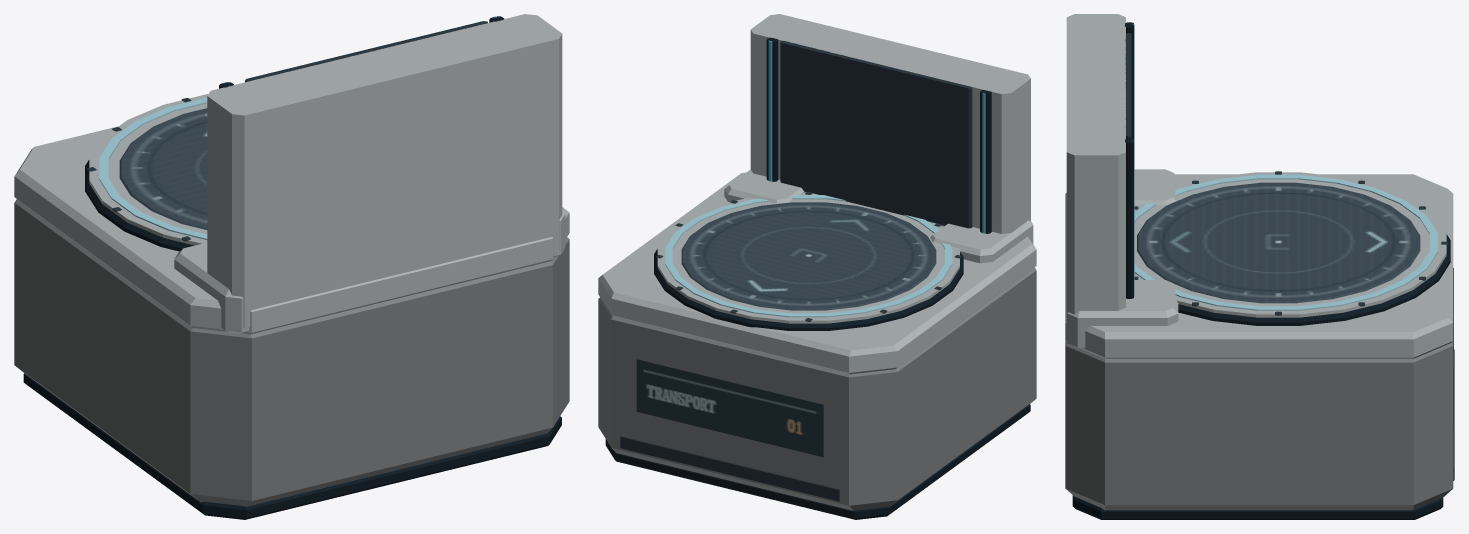
The model's file is transporter_lower.obj.
3 views of the same model, side by side, from view 1: azimuth 30°, elevation 25°; view 2: azimuth 150°, elevation 25°; view 3: azimuth 270°, elevation 25° (orthographic). The views are drawn at different scales.
Parts seen in each view (by area): view 1: lower_chamfered_plinth, lower_rear_spine, lower_deck_surround, lower_standing_disc, lower_floor_gasket, lower_continuous_emitter_rim, lower_left_spine_shoulder, lower_cold_white_ring, lower_recessed_emitter_socket, lower_recessed_backpanel; view 2: lower_chamfered_plinth, lower_recessed_backpanel, lower_standing_disc, lower_deck_surround, lower_rear_spine, lower_front_identification, lower_continuous_emitter_rim, lower_floor_gasket, lower_cold_white_ring, lower_front_step_inset, lower_recessed_emitter_socket, lower_left_spine_shoulder (+5 smaller); view 3: lower_chamfered_plinth, lower_standing_disc, lower_deck_surround, lower_rear_spine, lower_continuous_emitter_rim, lower_floor_gasket, lower_cold_white_ring, lower_right_spine_shoulder, lower_recessed_emitter_socket, lower_left_spine_shoulder, lower_right_light_socket, lower_recessed_backpanel.
Part boxes in pixels (x1,y1,x2,y2): lower_chamfered_plinth: [14, 199, 569, 506]; lower_rear_spine: [207, 14, 562, 327]; lower_deck_surround: [14, 126, 569, 334]; lower_standing_disc: [119, 108, 207, 229]; lower_floor_gasket: [23, 373, 561, 519]; lower_continuous_emitter_rim: [89, 94, 208, 245]; lower_left_spine_shoulder: [174, 242, 248, 333]; lower_cold_white_ring: [99, 97, 207, 239]; lower_recessed_emitter_socket: [85, 160, 194, 251]; lower_recessed_backpanel: [245, 21, 487, 82]; lower_chamfered_plinth: [598, 267, 1036, 510]; lower_recessed_backpanel: [780, 41, 972, 228]; lower_standing_disc: [681, 202, 936, 310]; lower_deck_surround: [598, 172, 1036, 374]; lower_rear_spine: [750, 14, 1030, 233]; lower_front_identification: [636, 359, 823, 457]; lower_continuous_emitter_rim: [657, 193, 959, 323]; lower_floor_gasket: [605, 404, 1030, 519]; lower_cold_white_ring: [665, 195, 952, 317]; lower_front_step_inset: [620, 436, 839, 501]; lower_recessed_emitter_socket: [654, 249, 963, 330]; lower_left_spine_shoulder: [930, 220, 1033, 263]; lower_chamfered_plinth: [1065, 341, 1453, 510]; lower_standing_disc: [1137, 182, 1420, 303]; lower_deck_surround: [1065, 174, 1453, 358]; lower_rear_spine: [1066, 14, 1125, 338]; lower_continuous_emitter_rim: [1134, 172, 1446, 317]; lower_floor_gasket: [1072, 495, 1443, 519]; lower_cold_white_ring: [1134, 174, 1437, 310]; lower_right_spine_shoulder: [1067, 280, 1178, 349]; lower_recessed_emitter_socket: [1178, 234, 1450, 325]; lower_left_spine_shoulder: [1134, 169, 1178, 205]; lower_right_light_socket: [1125, 138, 1133, 298]; lower_recessed_backpanel: [1125, 33, 1131, 138].
Size of the model in its own units: 0.9688 by 1 by 0.9812.
